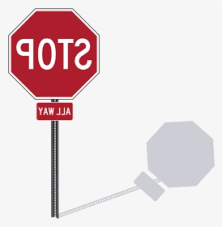SS: (8, 9, 100, 98)
